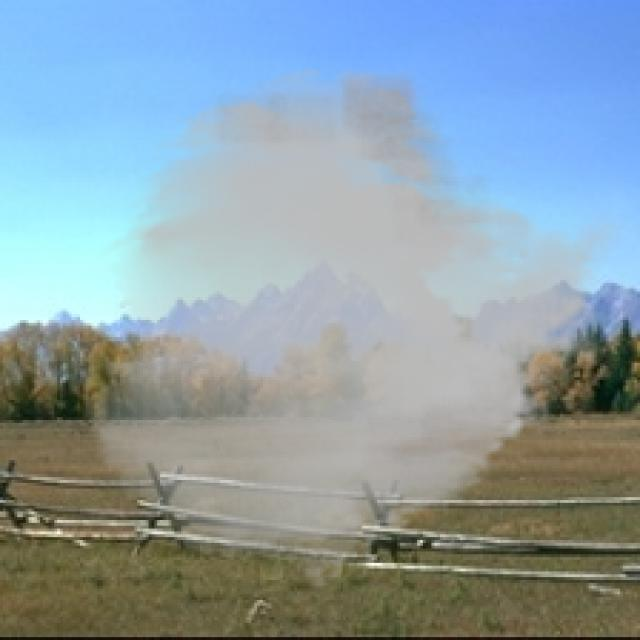smoke: (83, 63, 626, 591)
